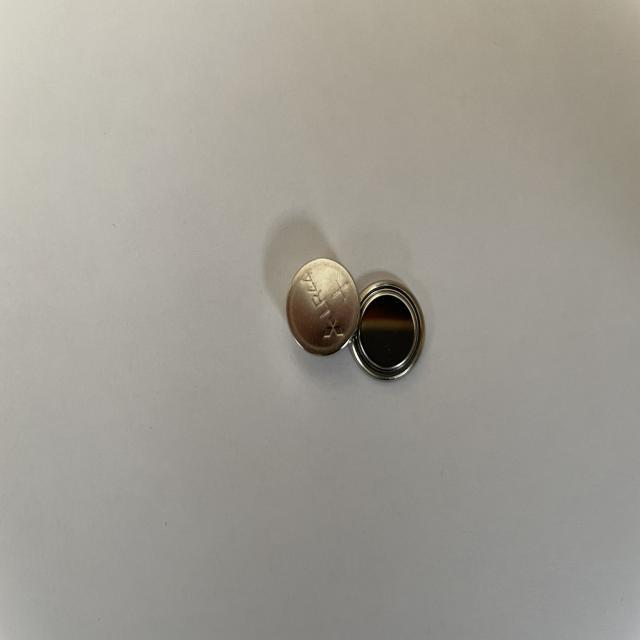COIN: (350, 279, 426, 382), (286, 256, 359, 354)
